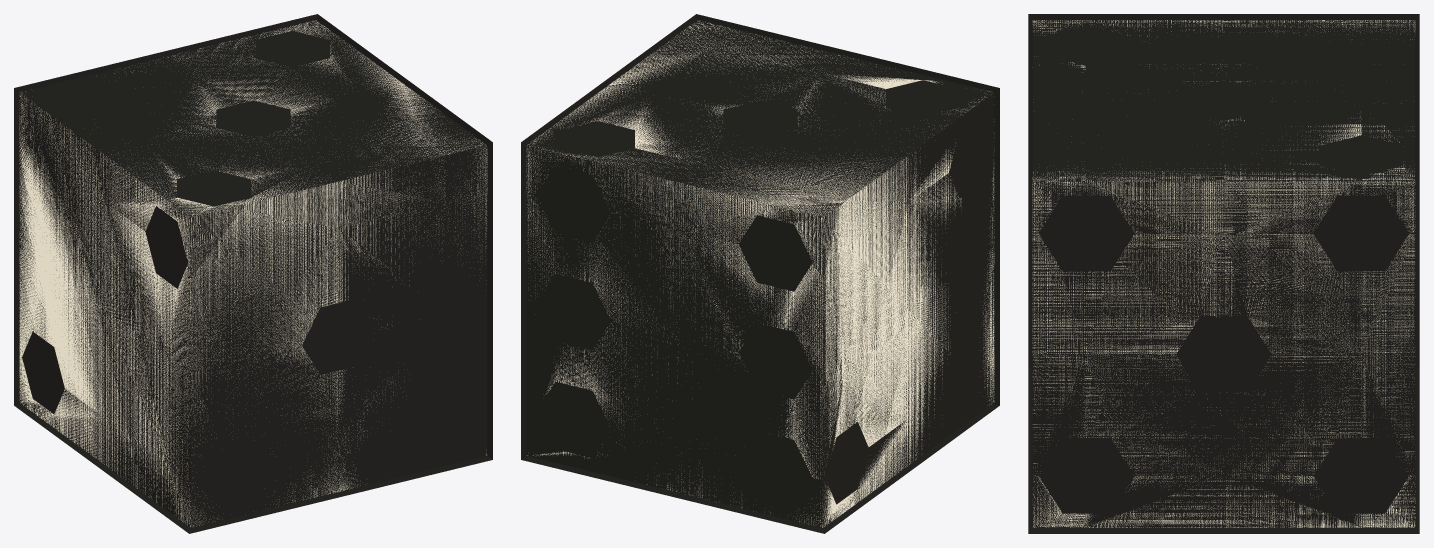
File: dice.glb
3 views of the same model, side by side, from view 1: azimuth 30°, elevation 25°; view 2: azimuth 150°, elevation 25°; view 3: azimuth 270°, elevation 25° (orthographic). The views are drawn at different scales.
Visible parts, largest first — view 1: border, die; view 2: border, die; view 3: border, die.
Part boxes in pixels (x1,y1,x2,y2): border: (14, 14, 492, 533); die: (19, 20, 487, 526); border: (521, 14, 999, 533); die: (526, 21, 994, 527); border: (1028, 14, 1419, 533); die: (1032, 20, 1415, 527).
Bounding box in the file's own units: 2.05 × 2.05 × 2.05.
